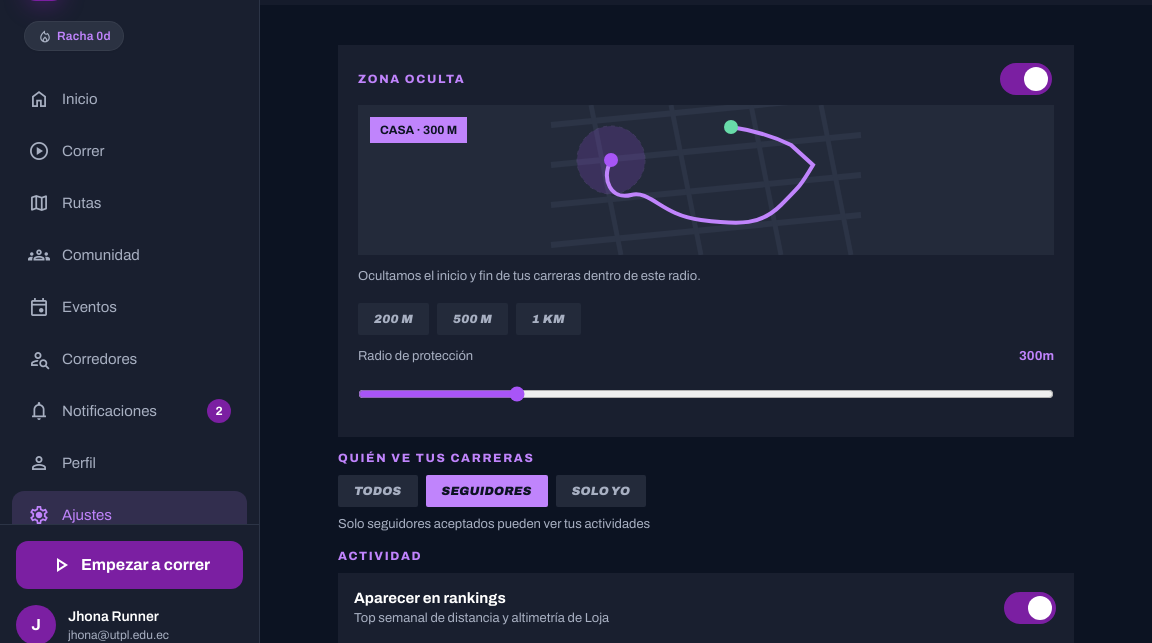
ajustes › privacidad y notificaciones persisten
This screenshot has width=1152, height=643.
Click the radio button labelled "Solo yo".
click(601, 491)  # box [556,475,646,507]
(page scrolled)
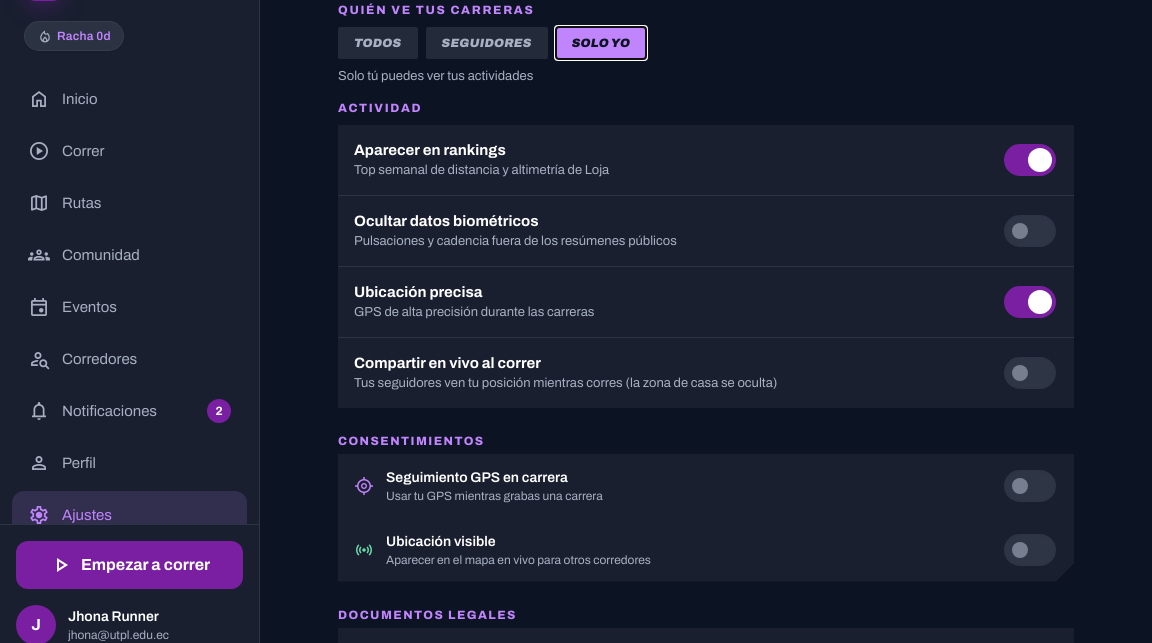
Click the switch named "Ubicación precisa".
click(1030, 302)  # box [1002,280,1058,324]
(page scrolled)
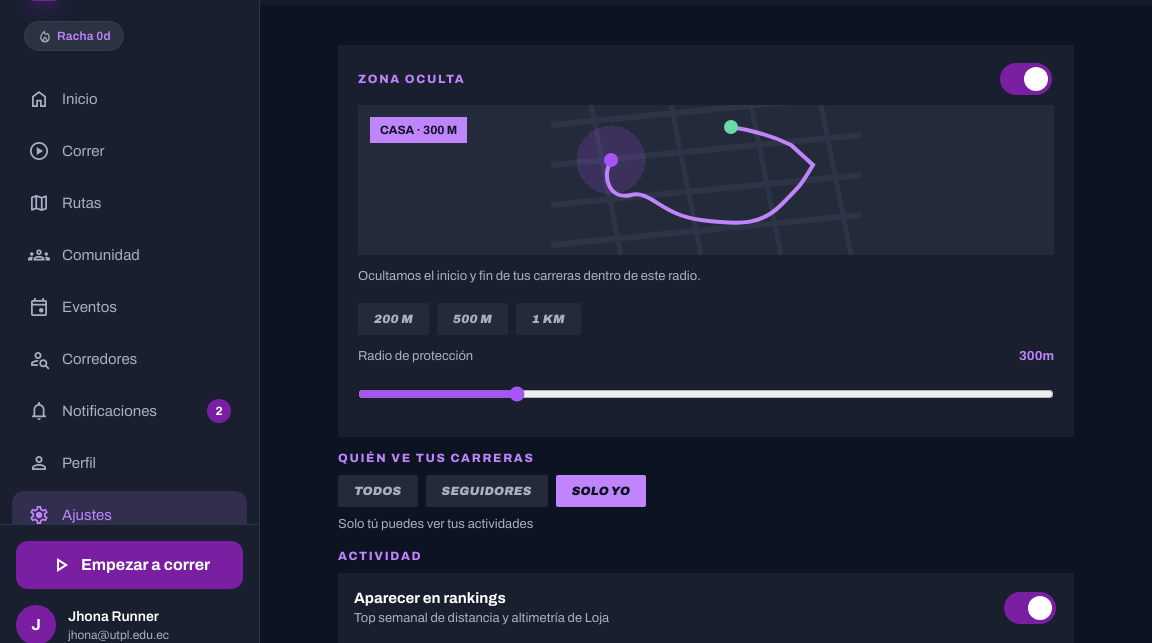
Click the switch named "Ocultar ubicación de casa".
click(1026, 79)  # box [998,57,1054,101]
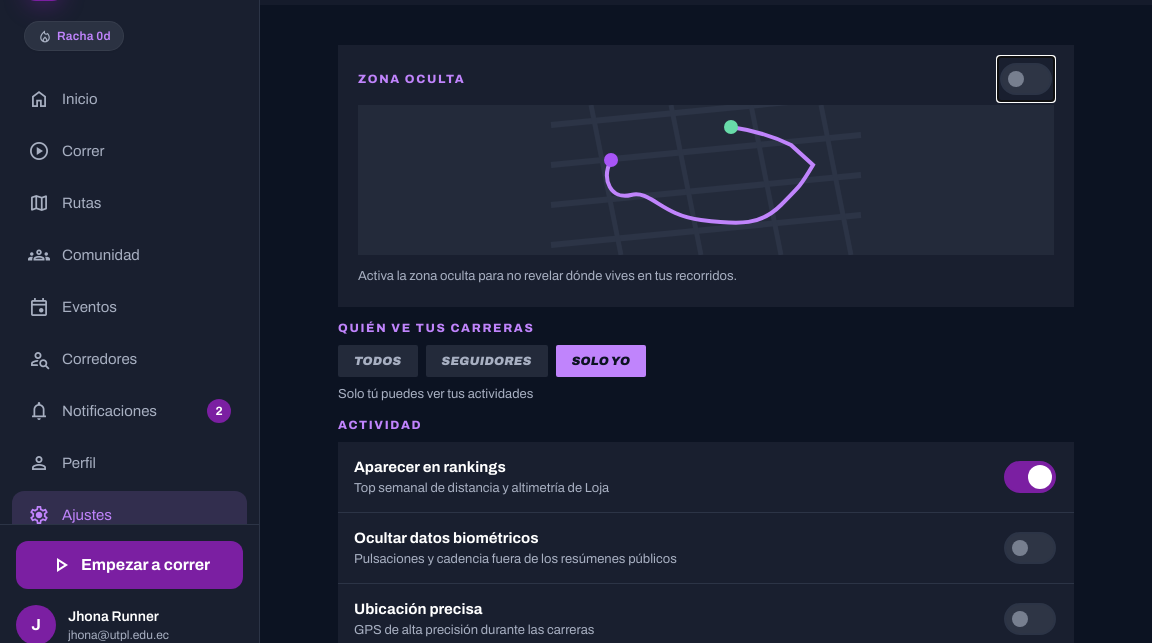
Check: the text with test id "radio-hogar-valor" is gone
Click the switch named "Ocultar ubicación de casa".
click(1026, 79)  # box [998,57,1054,101]
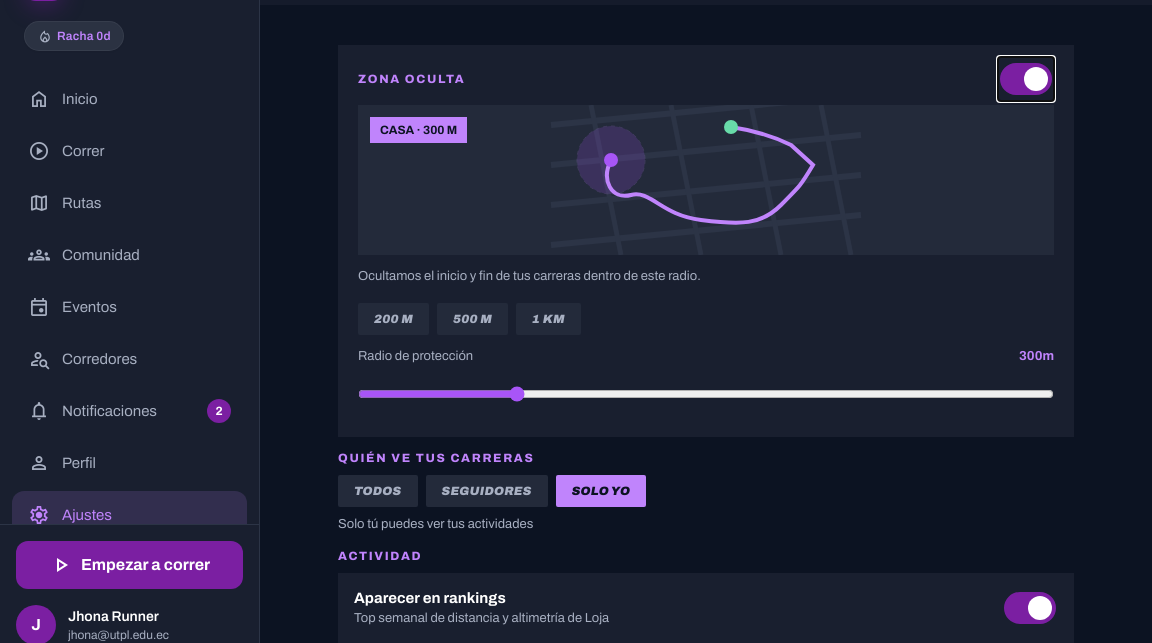
Check: the text with test id "radio-hogar-valor" shows "m", box [1042,348,1054,362]
